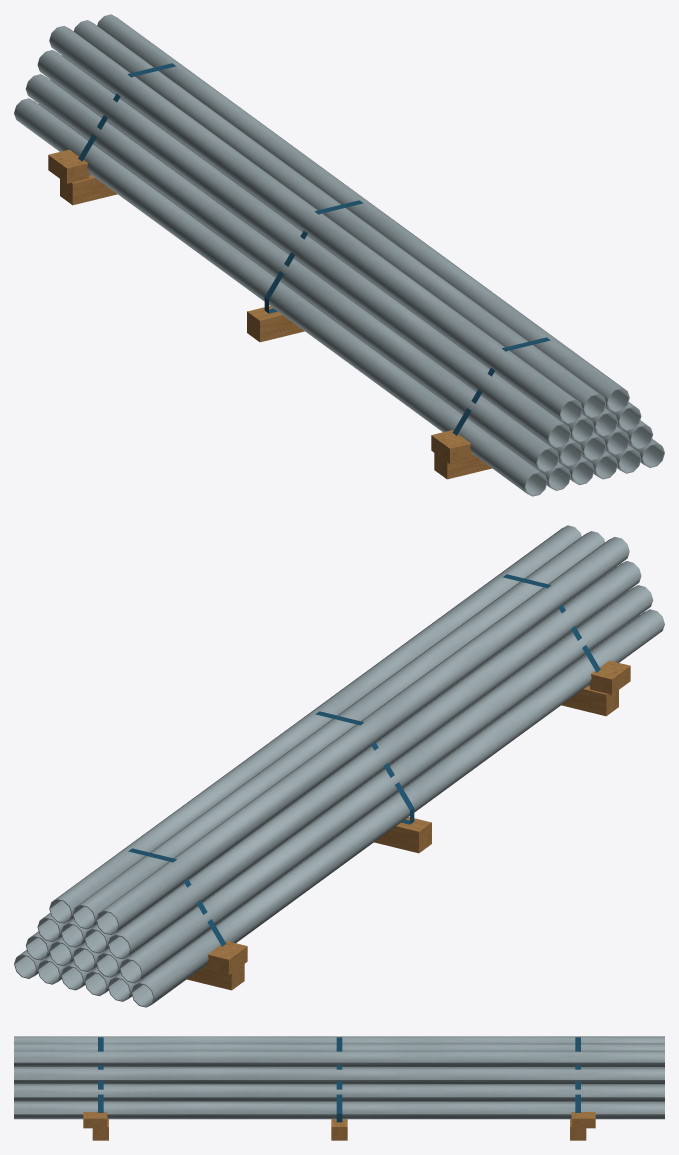
Rendered from galvanized_pipes.glb.
3 views of the same model, one above another, from view 1: azimuth 30°, elevation 25°; view 2: azimuth 150°, elevation 25°; view 3: azimuth 270°, elevation 25° (orthographic). The views are drawn at different scales.
Parts seen in each view (by area): view 1: Galvanized zinc, Pine dunnage, Steel cut edges, Blue polypropylene straps; view 2: Galvanized zinc, Pine dunnage, Steel cut edges, Blue polypropylene straps; view 3: Galvanized zinc, Pine dunnage, Blue polypropylene straps.
Part boxes in pixels (x1,y1,x2,y2): Galvanized zinc: [14, 14, 663, 495]; Pine dunnage: [48, 149, 491, 479]; Steel cut edges: [524, 388, 664, 496]; Blue polypropylene straps: [78, 63, 550, 435]; Galvanized zinc: [15, 525, 664, 1006]; Pine dunnage: [187, 660, 630, 990]; Steel cut edges: [14, 899, 154, 1007]; Blue polypropylene straps: [128, 574, 600, 946]; Galvanized zinc: [14, 1036, 664, 1119]; Pine dunnage: [83, 1112, 595, 1140]; Blue polypropylene straps: [98, 1037, 580, 1122].
Size of the model in its own units: 1.23 by 0.7102 by 6.
4 materials, 3 textured.
